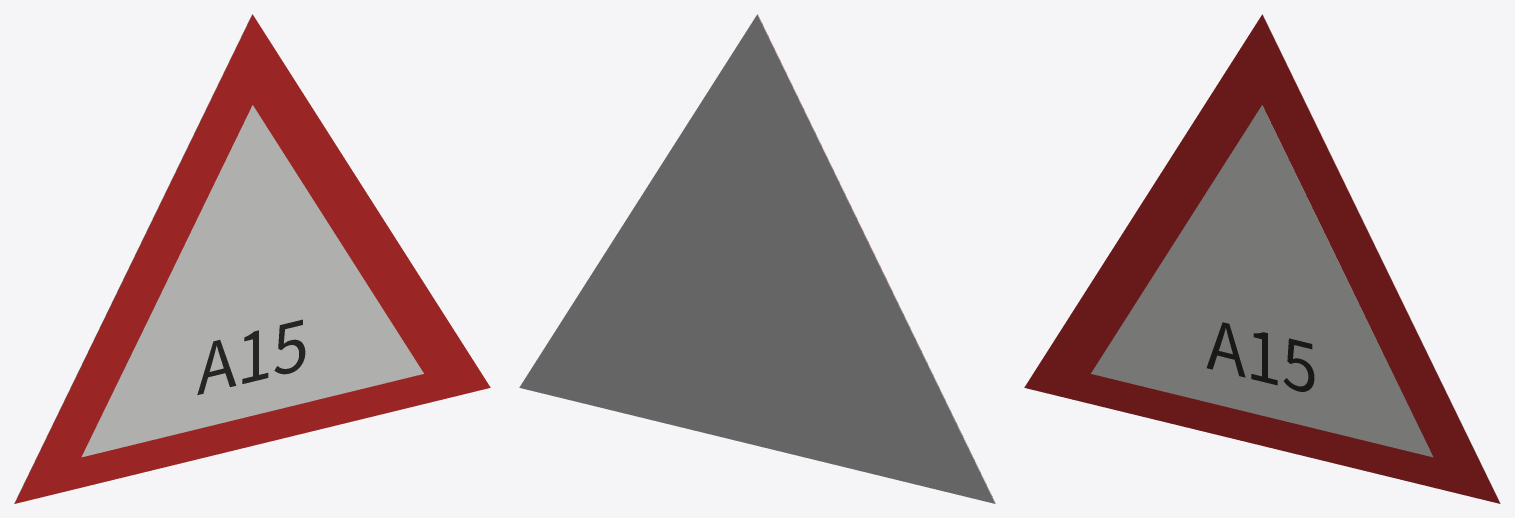
The picture shows the model from 3 angles, left to right: view 1: azimuth 30°, elevation 25°; view 2: azimuth 150°, elevation 25°; view 3: azimuth 330°, elevation 25°; orthographic projection.
Visible parts, largest first — view 1: A15_int01, A15_ext00, A15_txt02, A15_dos; view 2: A15_dos; view 3: A15_int01, A15_ext00, A15_txt02, A15_dos.
Boxes of the visible parts, box(x1,y1,x2,y2) form: A15_int01: box(81, 105, 423, 457); A15_ext00: box(14, 14, 490, 503); A15_txt02: box(197, 319, 305, 394); A15_dos: box(14, 14, 252, 503); A15_dos: box(519, 14, 995, 503); A15_int01: box(1091, 105, 1433, 457); A15_ext00: box(1024, 14, 1500, 503); A15_txt02: box(1206, 322, 1314, 391); A15_dos: box(1262, 14, 1500, 503).
Size of the model in its own units: 1 by 0.866 by 0.0025.
